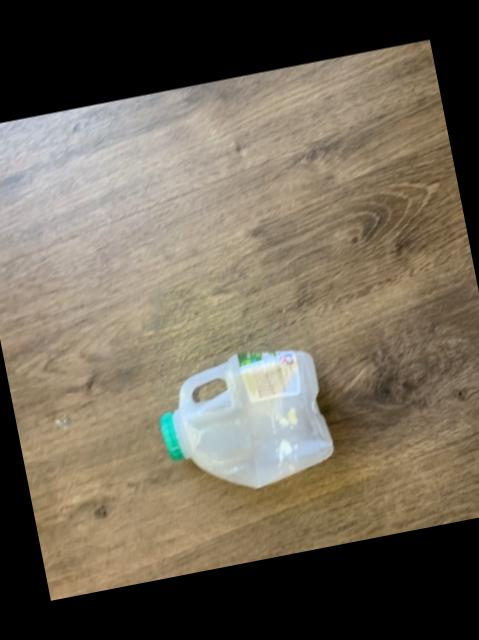plastic: (156, 352, 330, 489)
